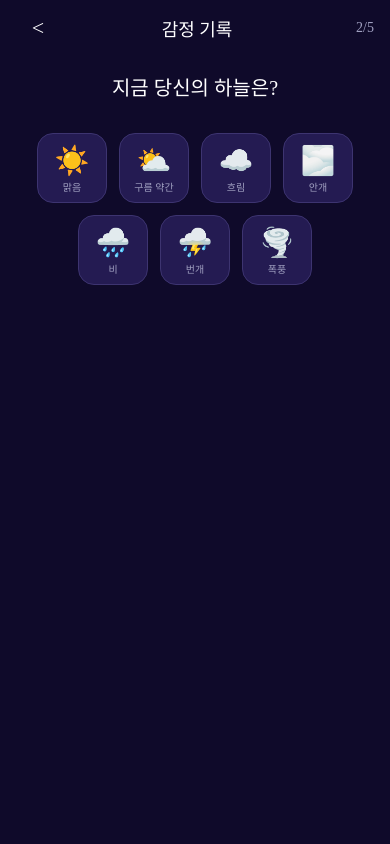
EmotionRecordScreen › shows memo input with placeholder when toggled
What coordinates should you click on to do the following:
click the text "맑음"
I would click on:
 (72, 186)
Its box is [63,178,81,194].
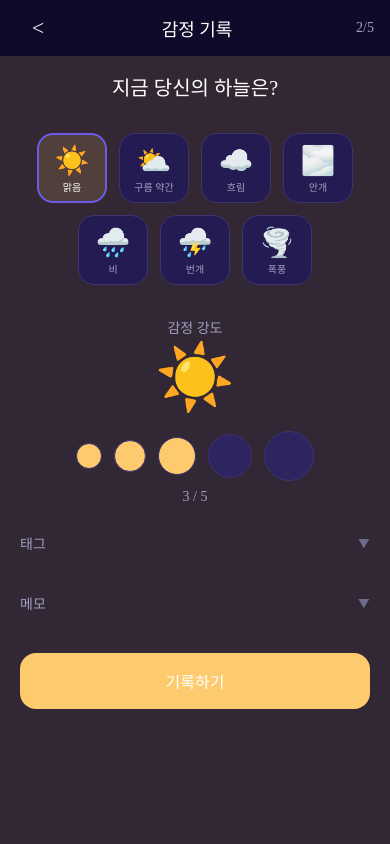
Expected: the field with placeholder "오늘의 감정에 대해" is not shown
What coordinates should you click on to do the following:
click the text "메모"
I would click on:
 (33, 603)
Its box is [20,593,46,613].
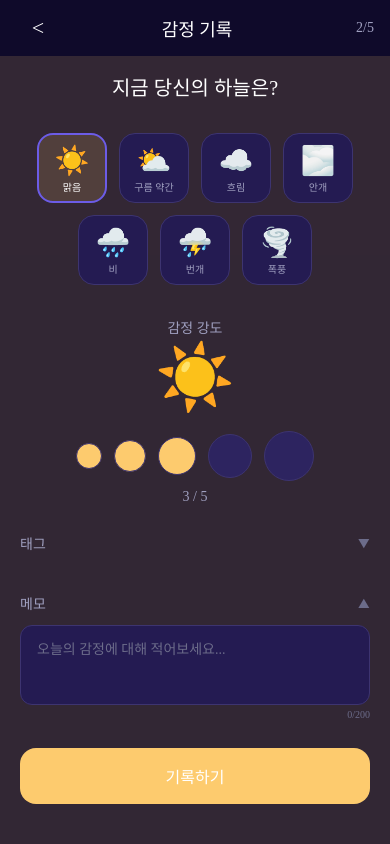
Now the text box with placeholder "오늘의 감정에 대해 적어보세요..." is shown, box [20,625,370,705]
